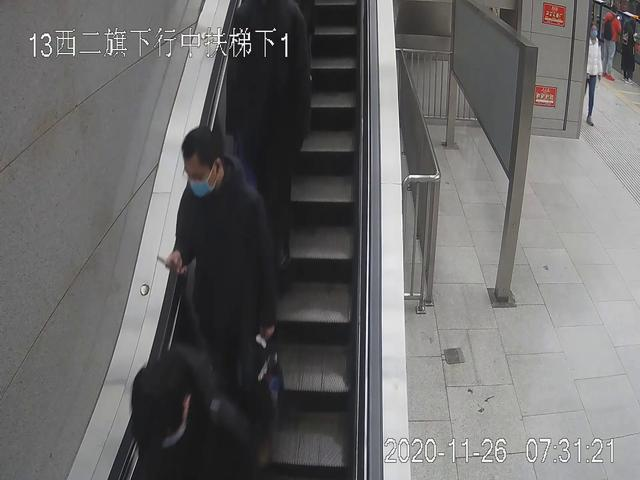person: (165, 128, 276, 459), (225, 1, 309, 258), (581, 22, 604, 127), (601, 5, 621, 80)
